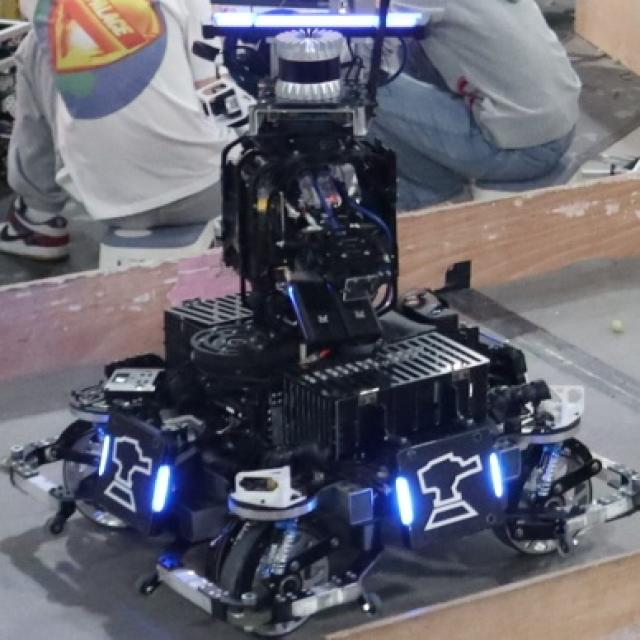Bs: (394, 443, 503, 534), (90, 423, 172, 520)
